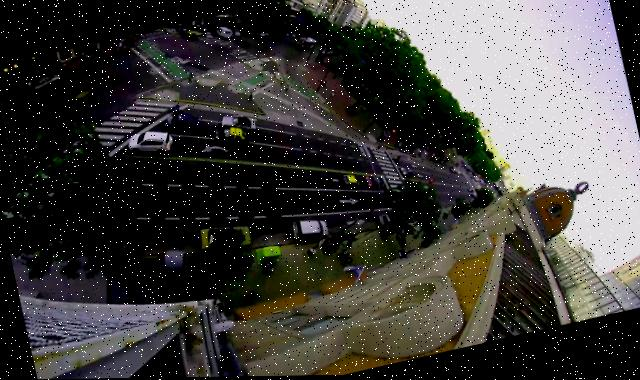bus: (293, 34, 317, 52)
car: (196, 219, 251, 256), (125, 126, 173, 161), (288, 215, 328, 243), (211, 123, 248, 151), (161, 110, 198, 137), (219, 110, 255, 136), (29, 71, 62, 94), (337, 172, 360, 193), (363, 174, 383, 191), (214, 25, 231, 41), (179, 29, 196, 42), (398, 167, 412, 178), (377, 214, 389, 225), (1, 95, 8, 112), (232, 28, 240, 37), (448, 167, 455, 174), (466, 188, 471, 193), (468, 193, 473, 198), (459, 172, 464, 177), (453, 169, 458, 174), (455, 171, 459, 176), (469, 189, 473, 193)
